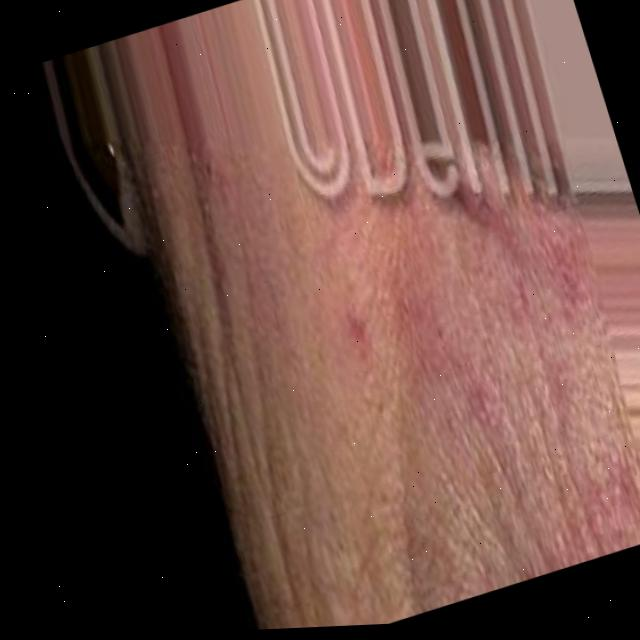Rosacea: (320, 198, 640, 606)
